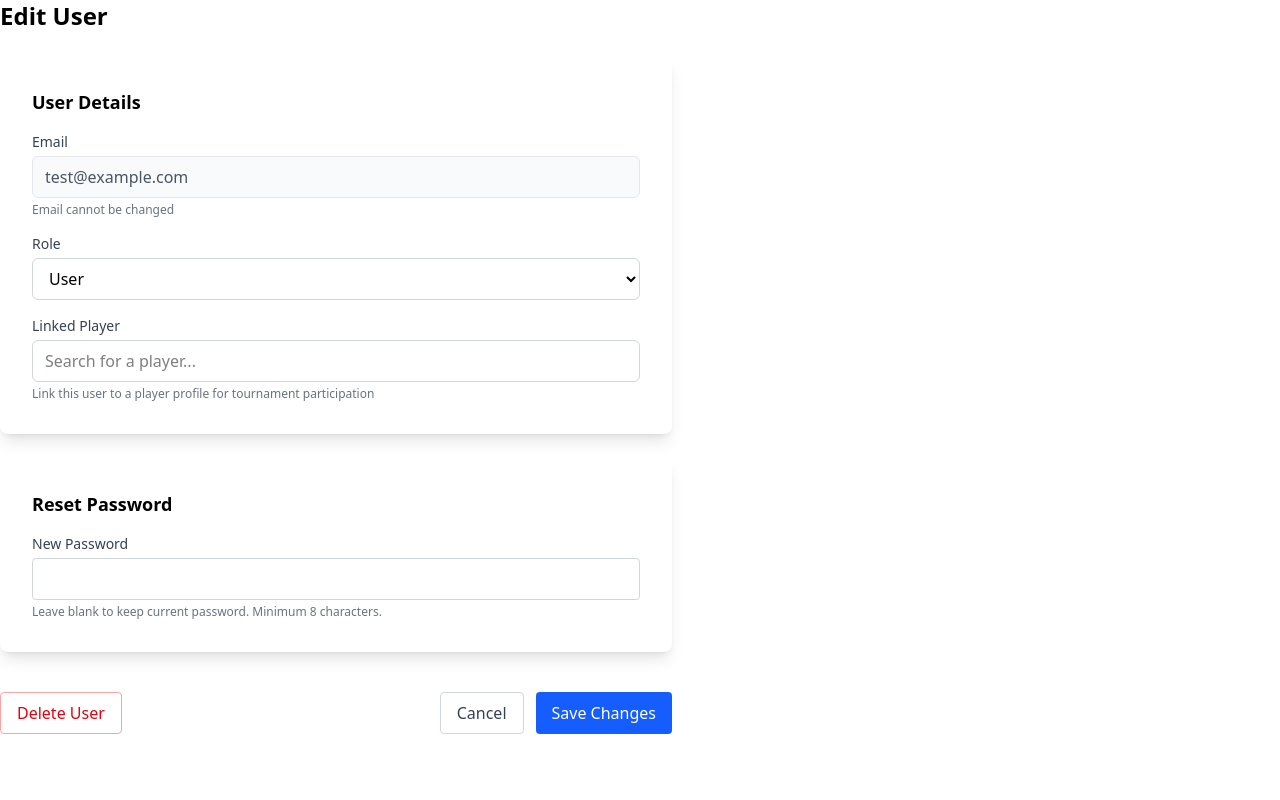
Scenario: AdminUserEditPage › Delete User › closes delete dialog on cancel
Click the button "Delete User" at point(61, 713), box x1=0 y1=692 x2=122 y2=734
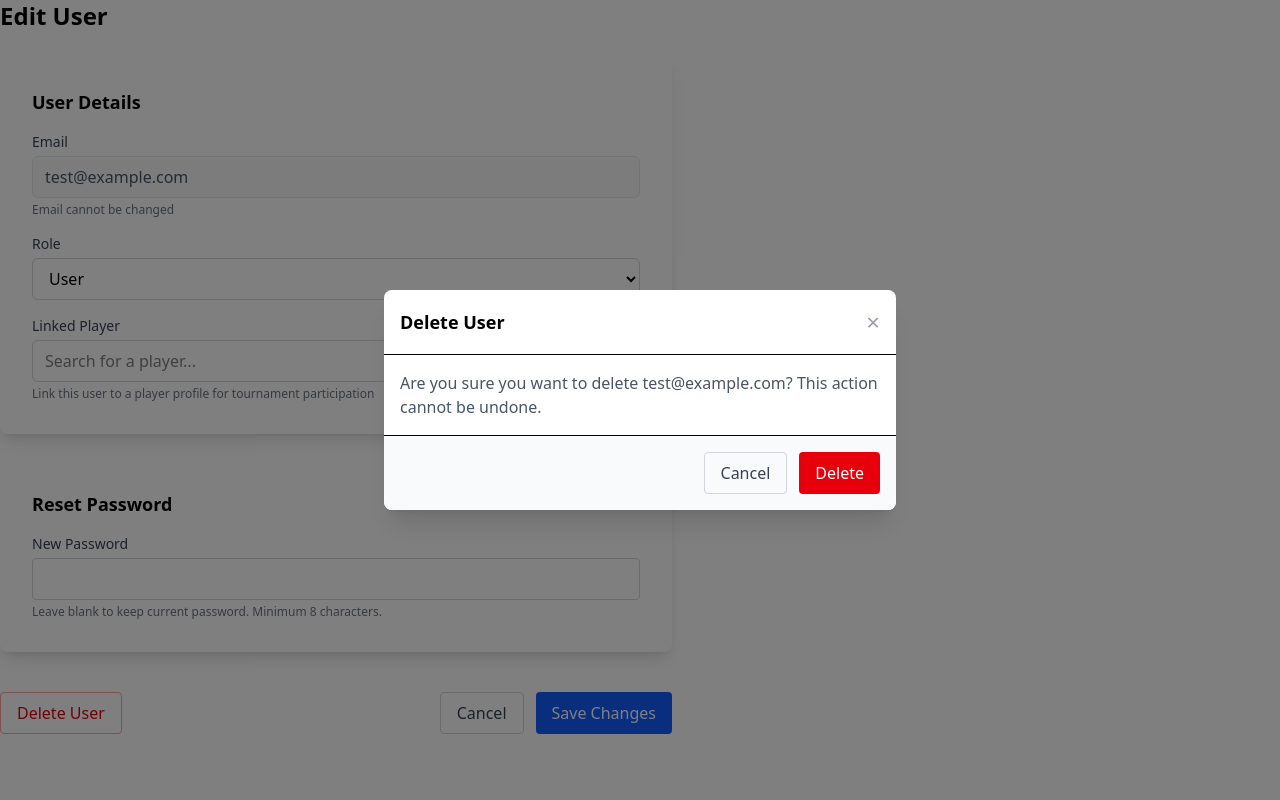
Check: the text "Are you sure you want to delete" is shown, box x1=400 y1=372 x2=878 y2=418
Note: Find the Cancel button in the delete dialog - it's the last one
Click the button "Cancel" at point(745, 473), box x1=704 y1=452 x2=787 y2=494
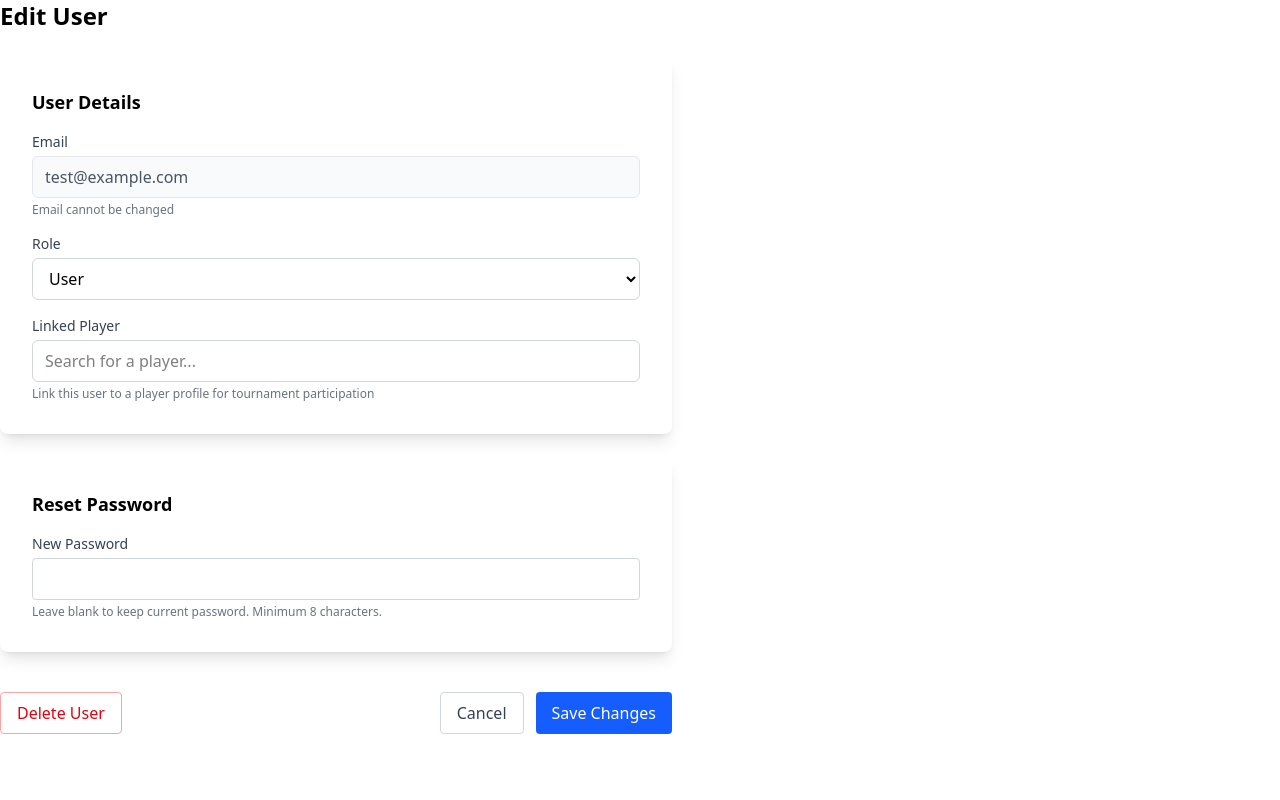
Check: the text "Are you sure you want to delete" is gone
